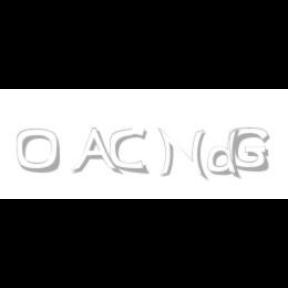A: (71, 128, 119, 176)
C: (110, 128, 146, 174)
G: (229, 128, 269, 172)
N: (158, 128, 206, 180)
O: (16, 128, 62, 174)
d: (208, 128, 244, 180)
